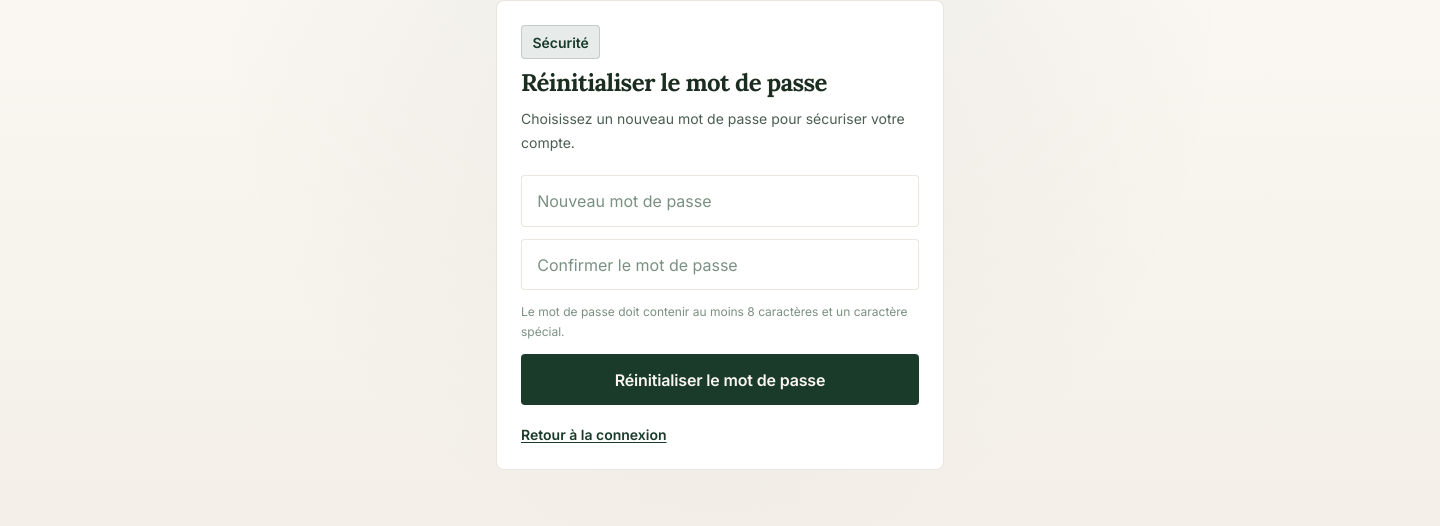
ResetPasswordPage › submits the new password with the token
This screenshot has width=1440, height=526.
Type "newpass123!" into the password field with placeholder "Nouveau mot de passe".
click(720, 201); type("newpass123!")  # box [521,175,919,227]
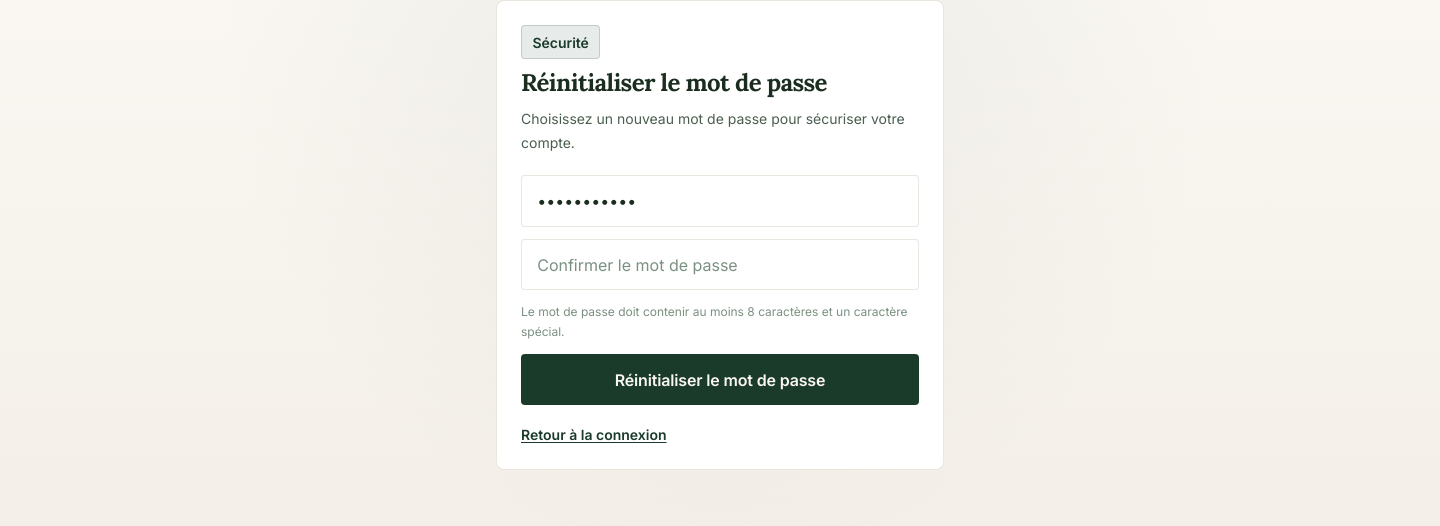
Type "newpass123!" into the password field with placeholder "Confirmer le mot de passe".
click(720, 265); type("newpass123!")  # box [521,239,919,290]
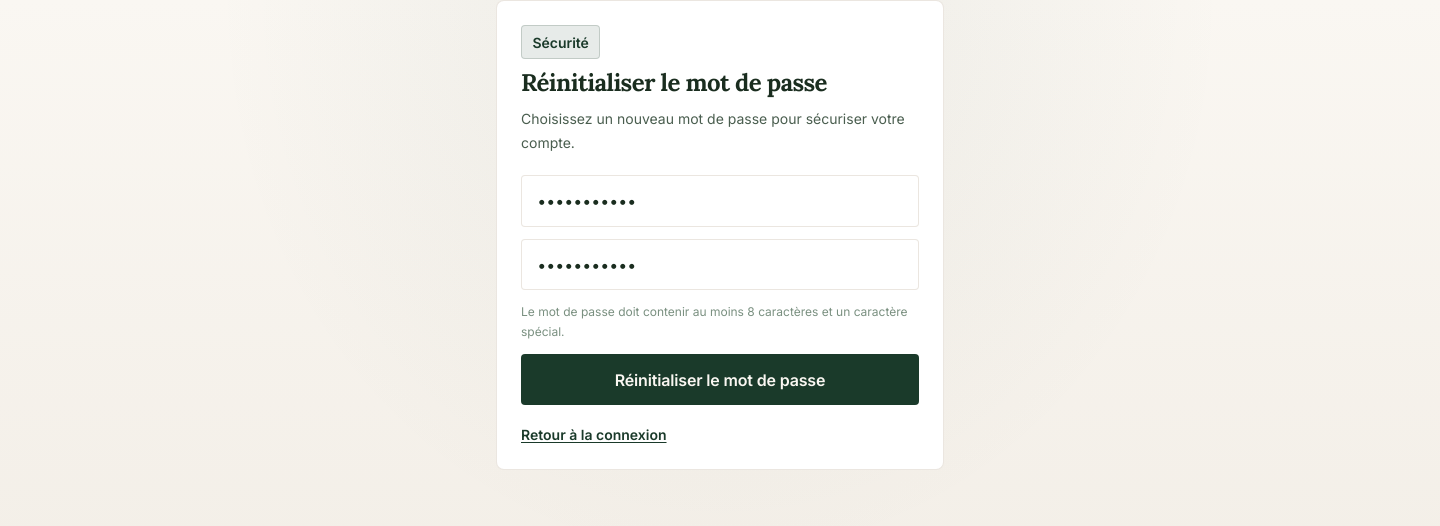
Click the button "Réinitialiser le mot de passe".
click(720, 380)  # box [521,354,919,405]
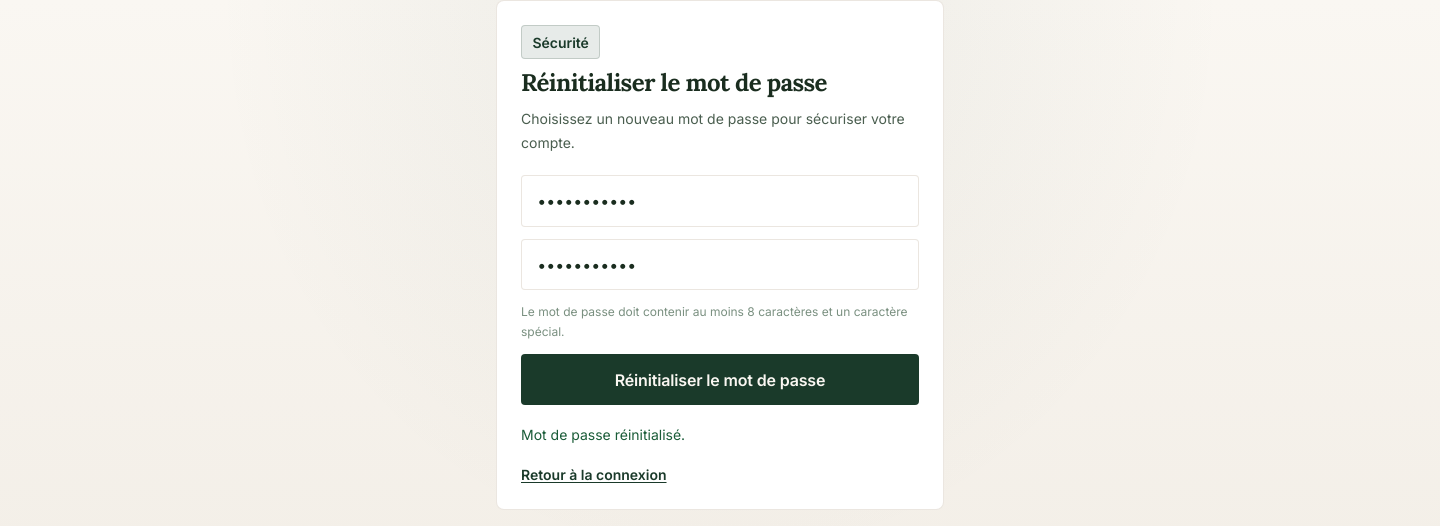
expect the text "Mot de passe réinitialisé." is shown: met, box [521,426,685,443]
